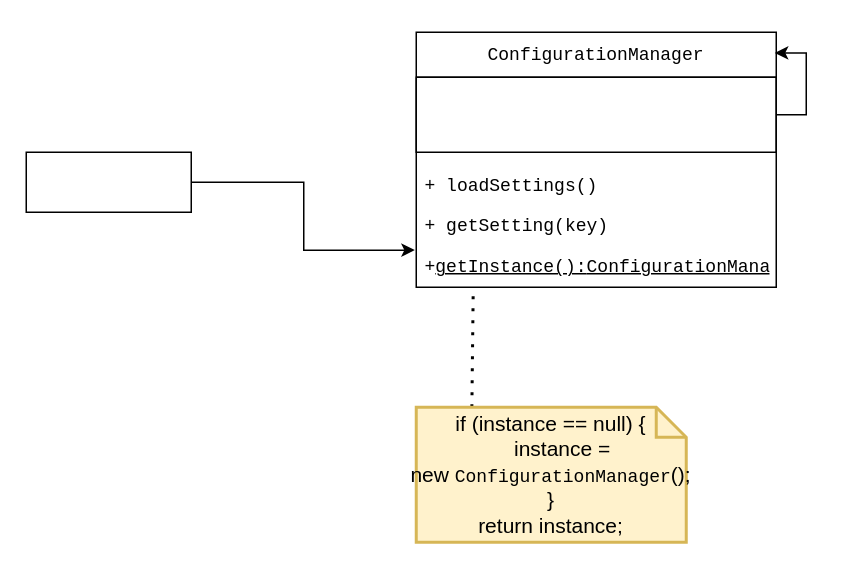
This 845x570 diagram has some shape labels left out. The shapes that lost their labels are listed below. From the top down, each one's centre as x and y in pixels, then its label:
the point at 595,114: - instance: ConfigurationManager
the point at 108,181: Client
